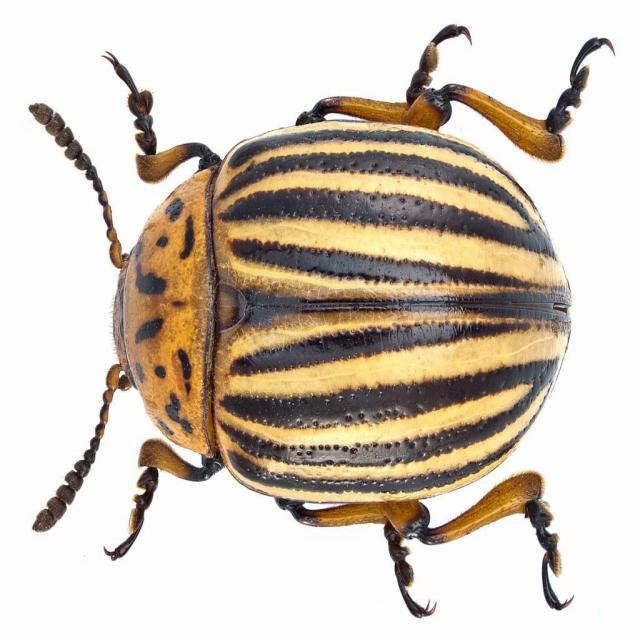ShuCaiHuaBanChong-Grown-: (30, 37, 585, 587)
